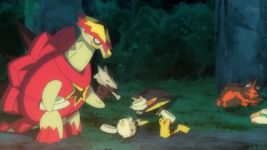pikachu: (157, 114, 193, 139)
